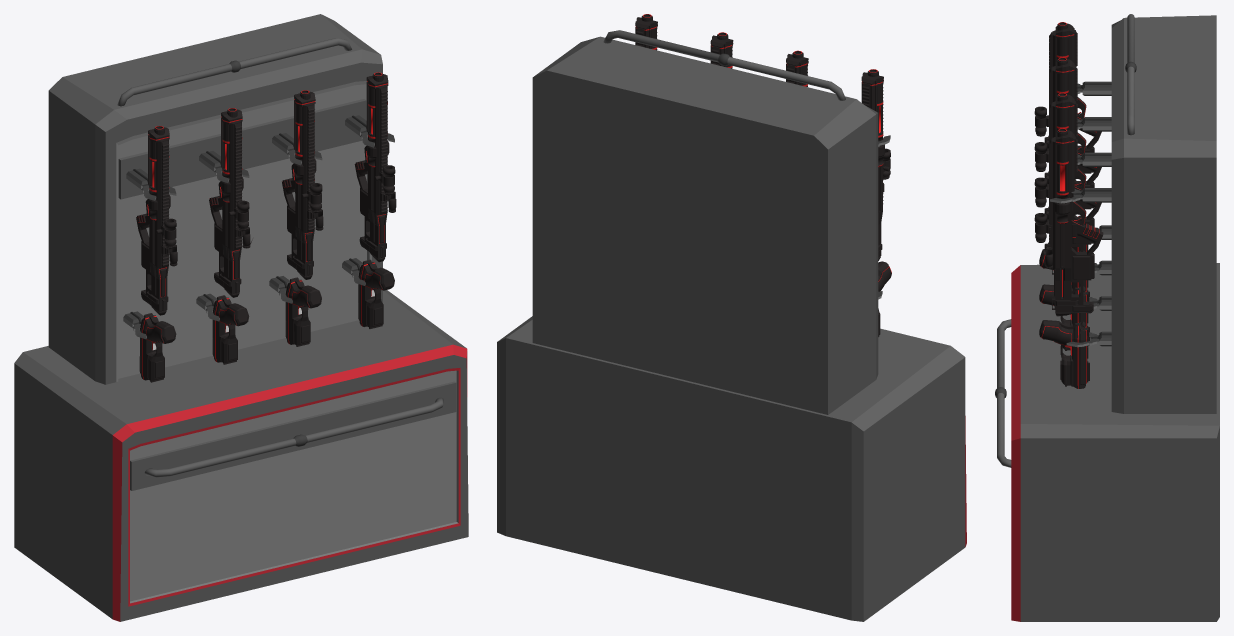
Rendered from WeaponRack.glb.
3 renders of one model, left to right at view 1: azimuth 30°, elevation 25°; view 2: azimuth 150°, elevation 25°; view 3: azimuth 270°, elevation 25°, orthographic. The views are drawn at different scales.
Parts seen in each view (by area): view 1: WeaponRack, Riffle4, Riffle1, Riffle2, Riffle3, Pistol2, Pistol3, Pistol4, Pistol1; view 2: WeaponRack, Riffle1; view 3: WeaponRack, Riffle4, Riffle3, Pistol4, Riffle2, Riffle1, Pistol3.
Boxes of the visible parts, box(x1,y1,x2,y2) form: WeaponRack: box(14, 14, 468, 621); Riffle4: box(354, 72, 396, 262); Riffle1: box(136, 126, 177, 315); Riffle2: box(209, 108, 252, 297); Riffle3: box(282, 90, 323, 279); Pistol2: box(212, 295, 249, 364); Pistol3: box(285, 277, 321, 346); Pistol4: box(358, 259, 394, 328); Pistol1: box(139, 313, 176, 382); WeaponRack: box(497, 30, 966, 621); Riffle1: box(861, 69, 890, 260); WeaponRack: box(995, 14, 1219, 621); Riffle4: box(1034, 128, 1103, 316); Riffle3: box(1034, 93, 1101, 274); Pistol4: box(1039, 320, 1089, 388); Riffle2: box(1034, 57, 1101, 216); Riffle1: box(1034, 22, 1101, 180); Pistol3: box(1039, 284, 1089, 350).
Bounding box in the file's own units: 1.77 × 2.26 × 0.9731.
2 materials, 2 textured.
